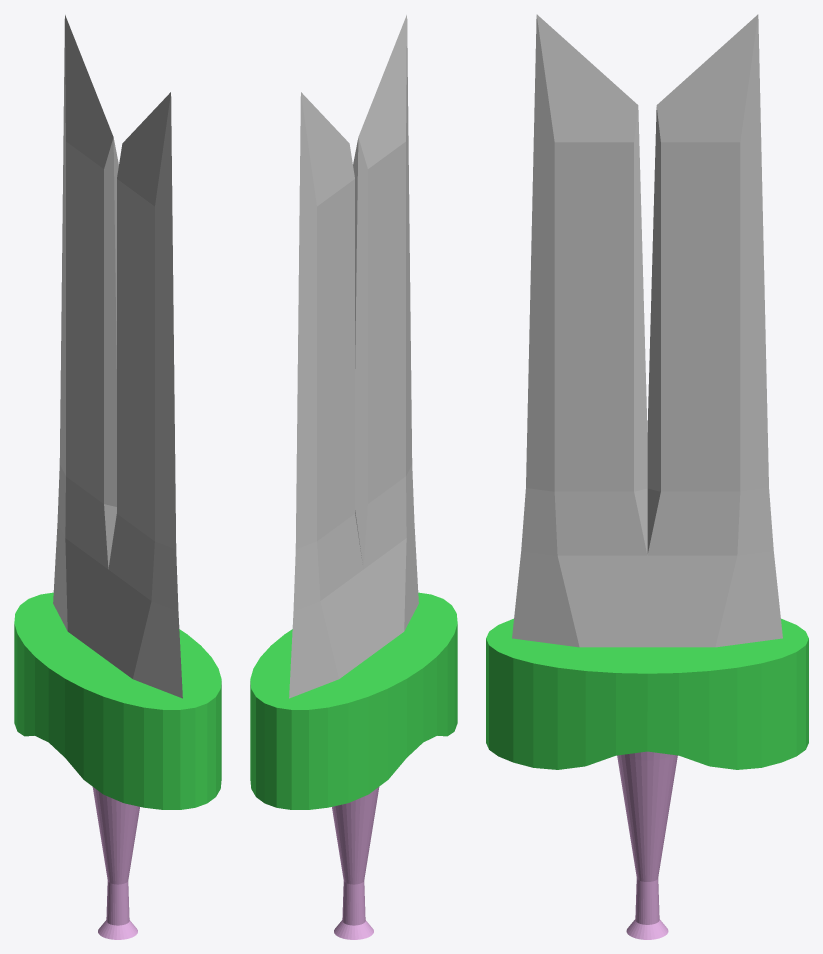
Rendered from SplitSword.fbx.
3 renders of one model, left to right at view 1: azimuth 30°, elevation 25°; view 2: azimuth 150°, elevation 25°; view 3: azimuth 270°, elevation 25°, orthographic. The views are drawn at different scales.
Visible parts, largest first — view 1: SplitSword; view 2: SplitSword; view 3: SplitSword.
Part boxes in pixels (left/top/right/bottom): SplitSword: left=14, top=15, right=221, bottom=939; SplitSword: left=250, top=15, right=457, bottom=939; SplitSword: left=486, top=14, right=808, bottom=939.
Size of the model in its own units: 674 by 4084 by 1303.
